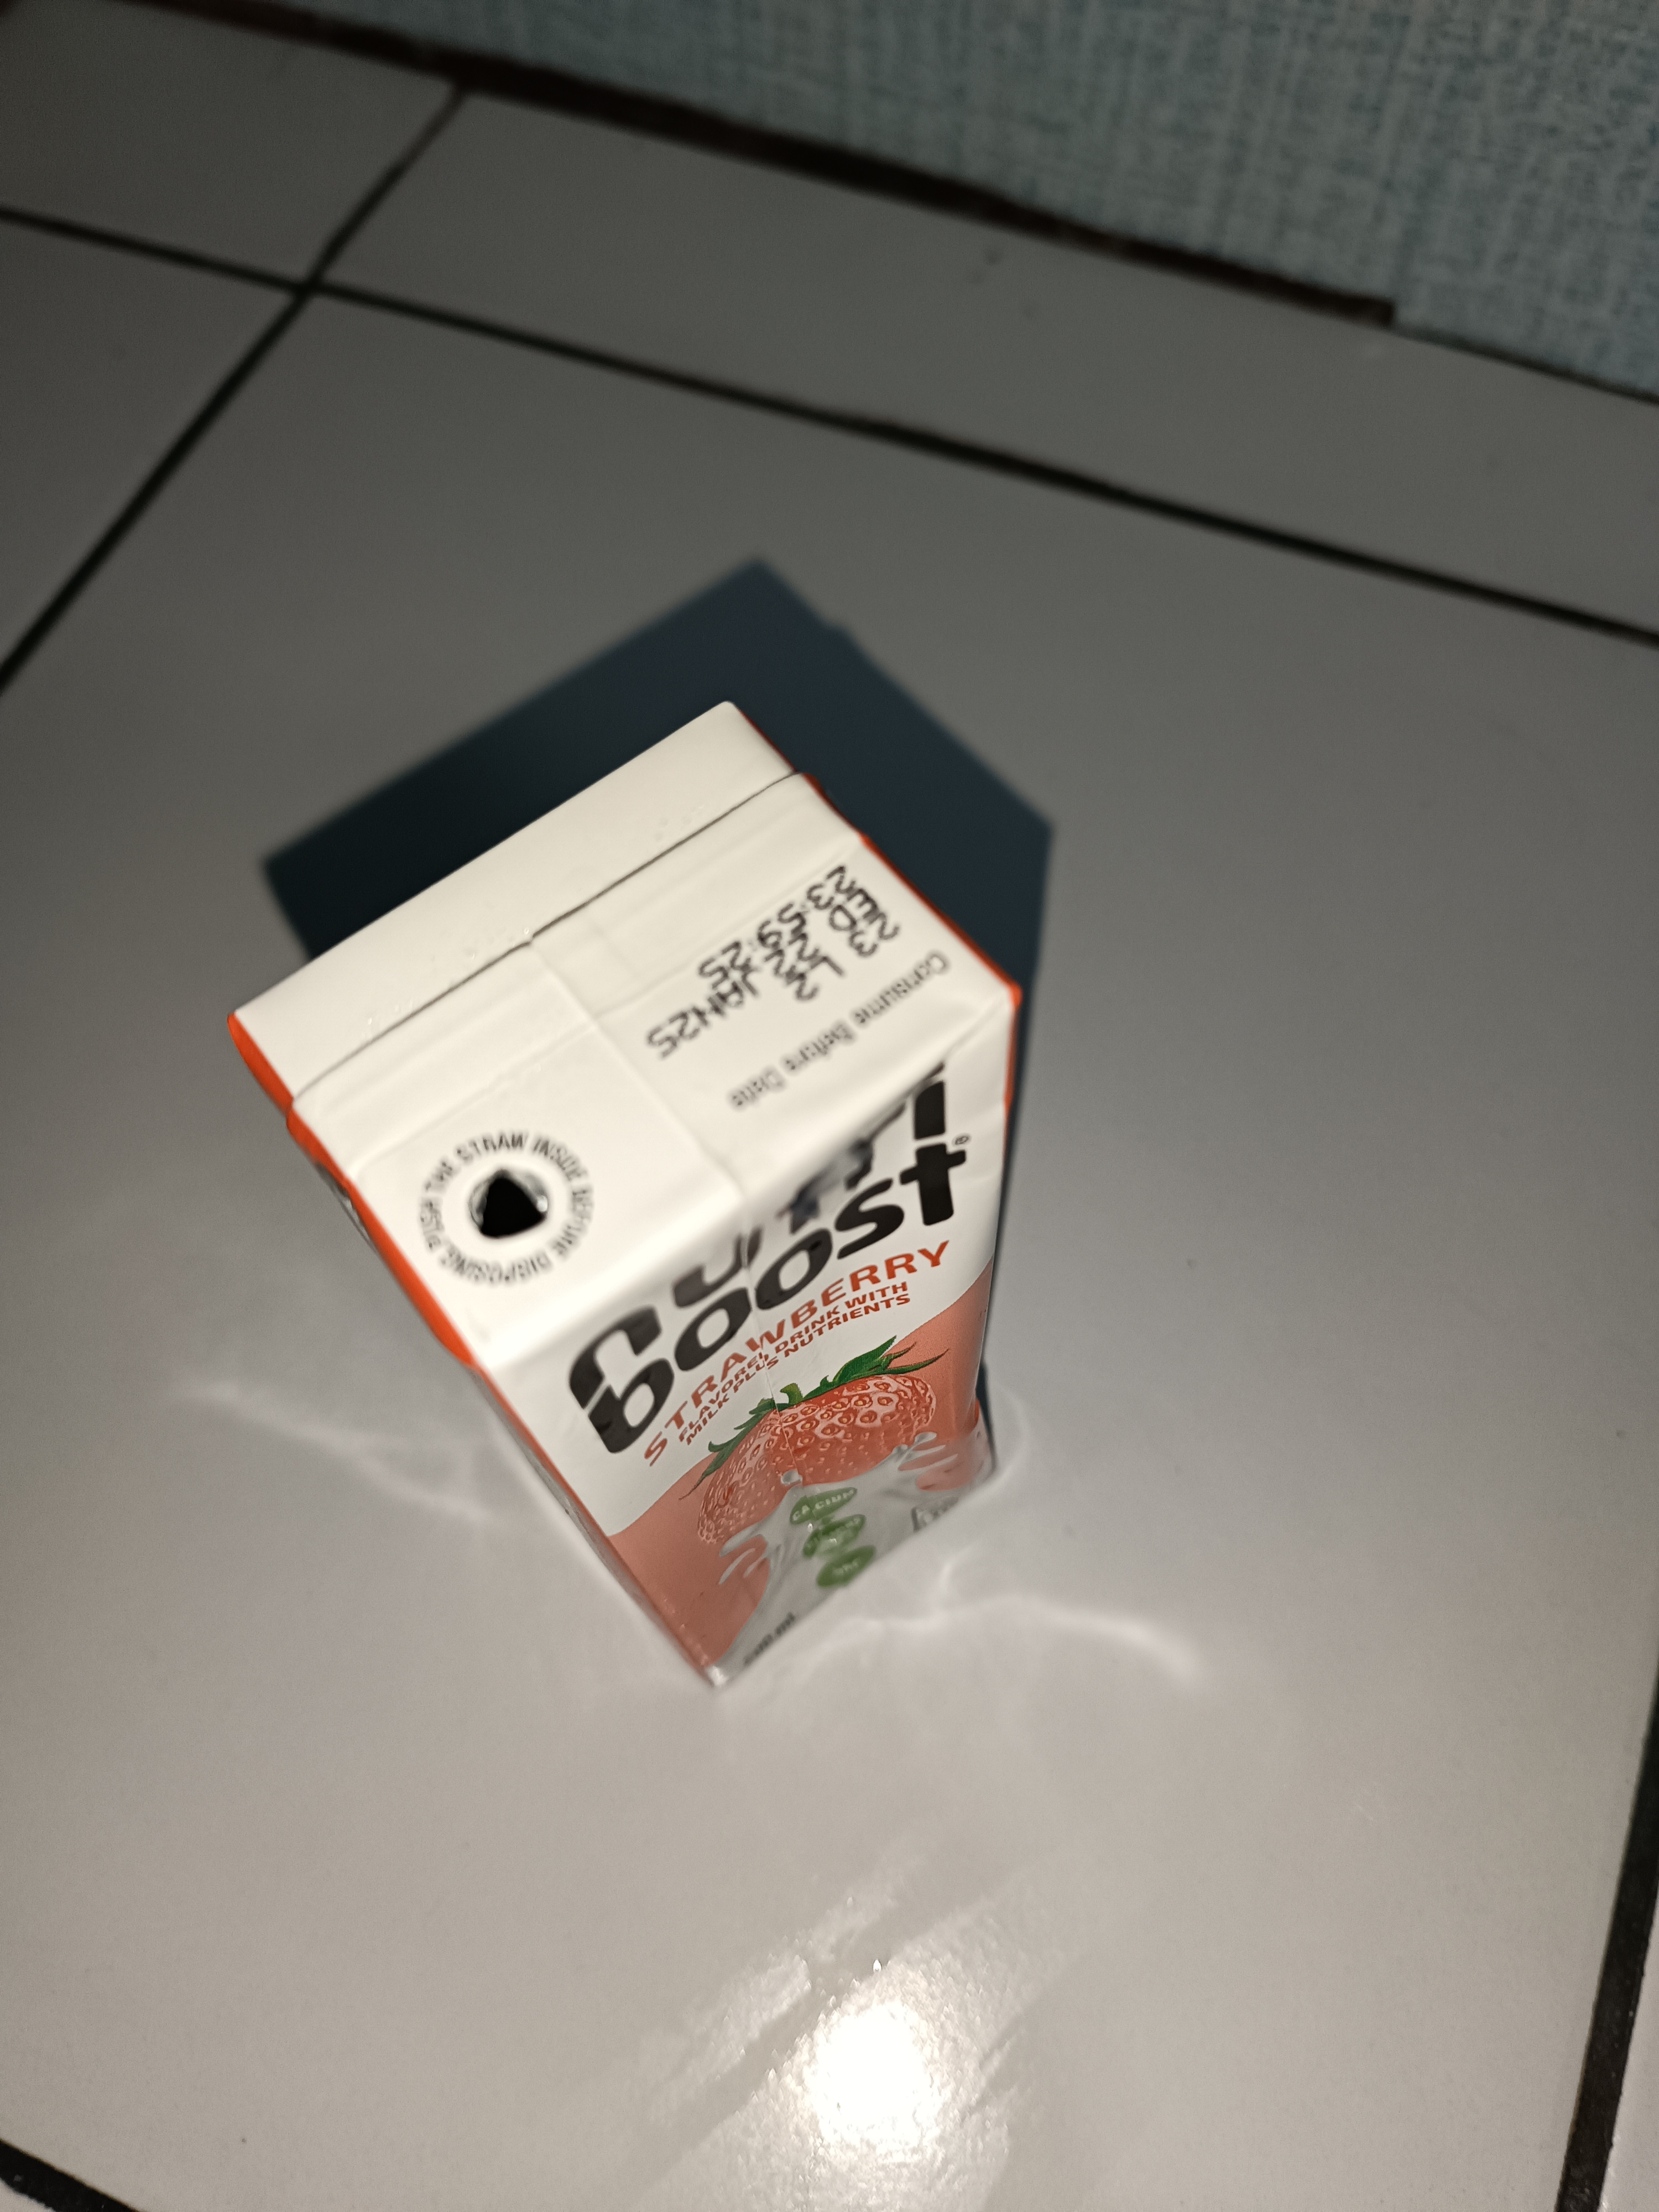Juice Box: (244, 671, 1143, 1818)
